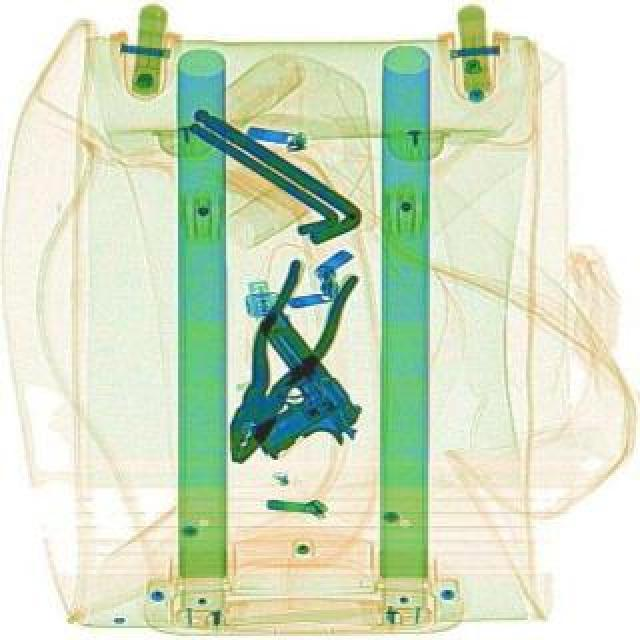gun: (192, 306, 372, 482)
wrench: (198, 248, 360, 476)
